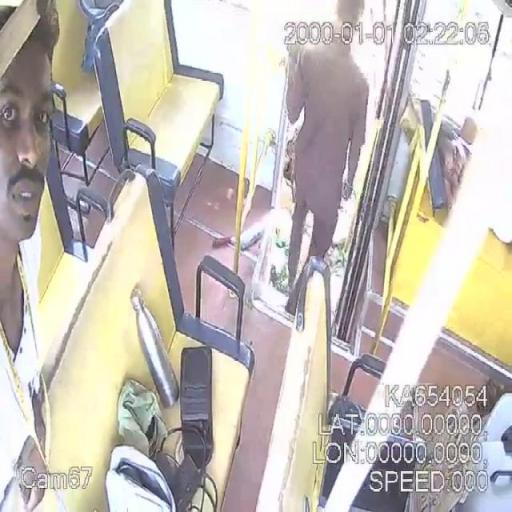persona: (0, 0, 66, 512), (280, 0, 371, 316)
